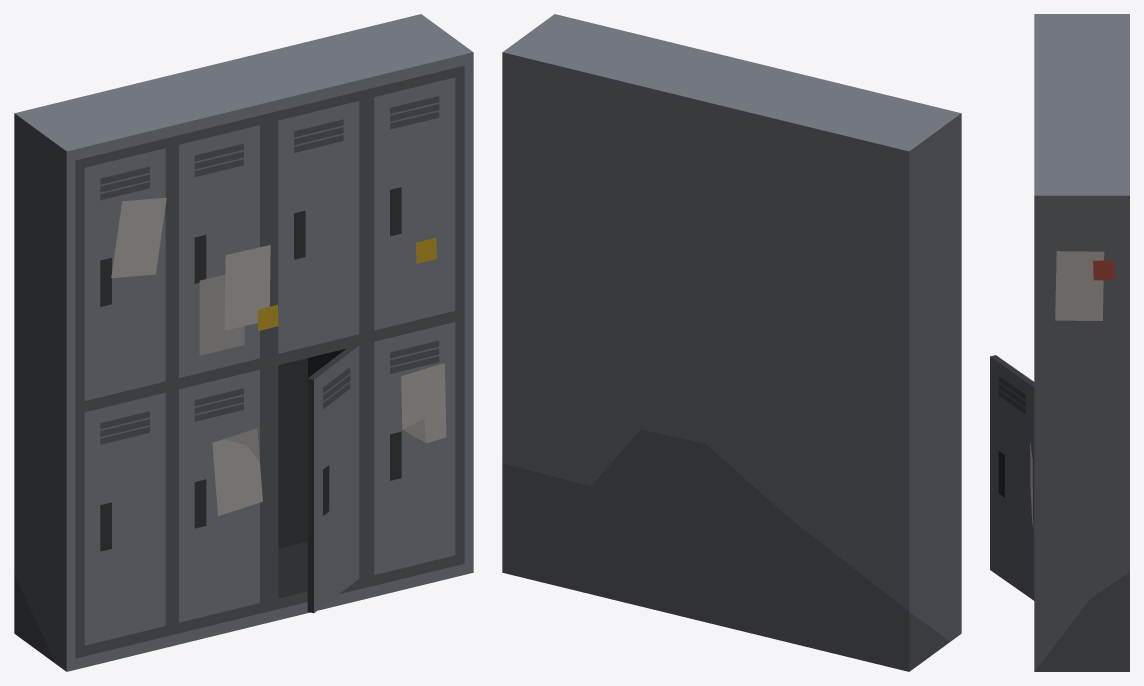
Rendered from AI_Prop_Lockers_01.fbx.
3 renders of one model, left to right at view 1: azimuth 30°, elevation 25°; view 2: azimuth 150°, elevation 25°; view 3: azimuth 270°, elevation 25°, orthographic. The views are drawn at different scales.
Parts seen in each view (by area): view 1: AI_Prop_Lockers_01; view 2: AI_Prop_Lockers_01; view 3: AI_Prop_Lockers_01.
Boxes of the visible parts, <box> form: AI_Prop_Lockers_01: <box>14,14,473,671</box>; AI_Prop_Lockers_01: <box>502,14,961,671</box>; AI_Prop_Lockers_01: <box>990,14,1129,671</box>.
Size of the model in its own units: 3.1 by 3.75 by 0.999.
